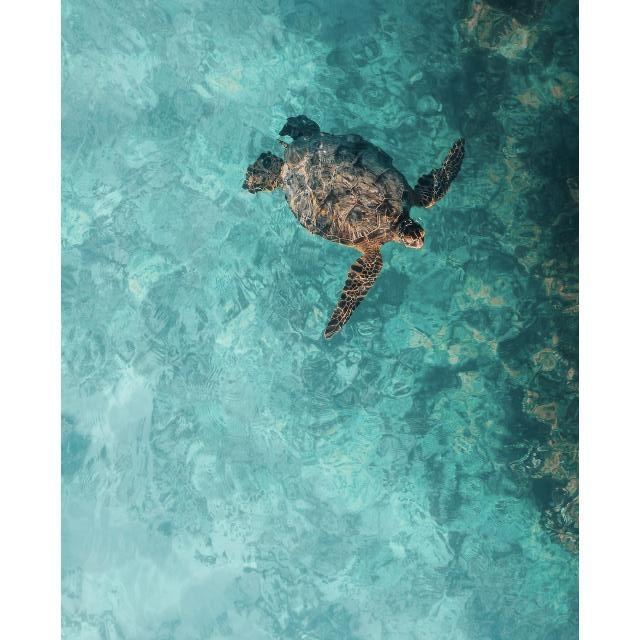turtle: (241, 116, 464, 340)
